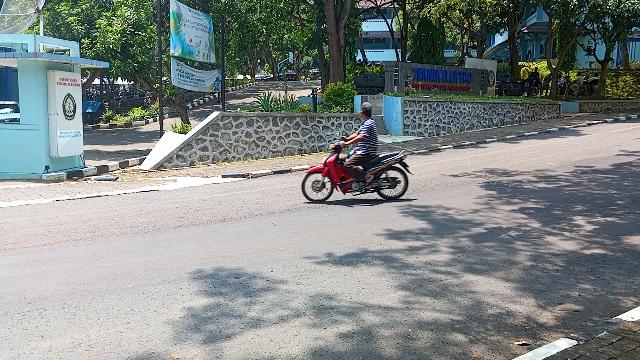motor: (303, 136, 417, 205)
non-helm: (360, 103, 374, 122)
